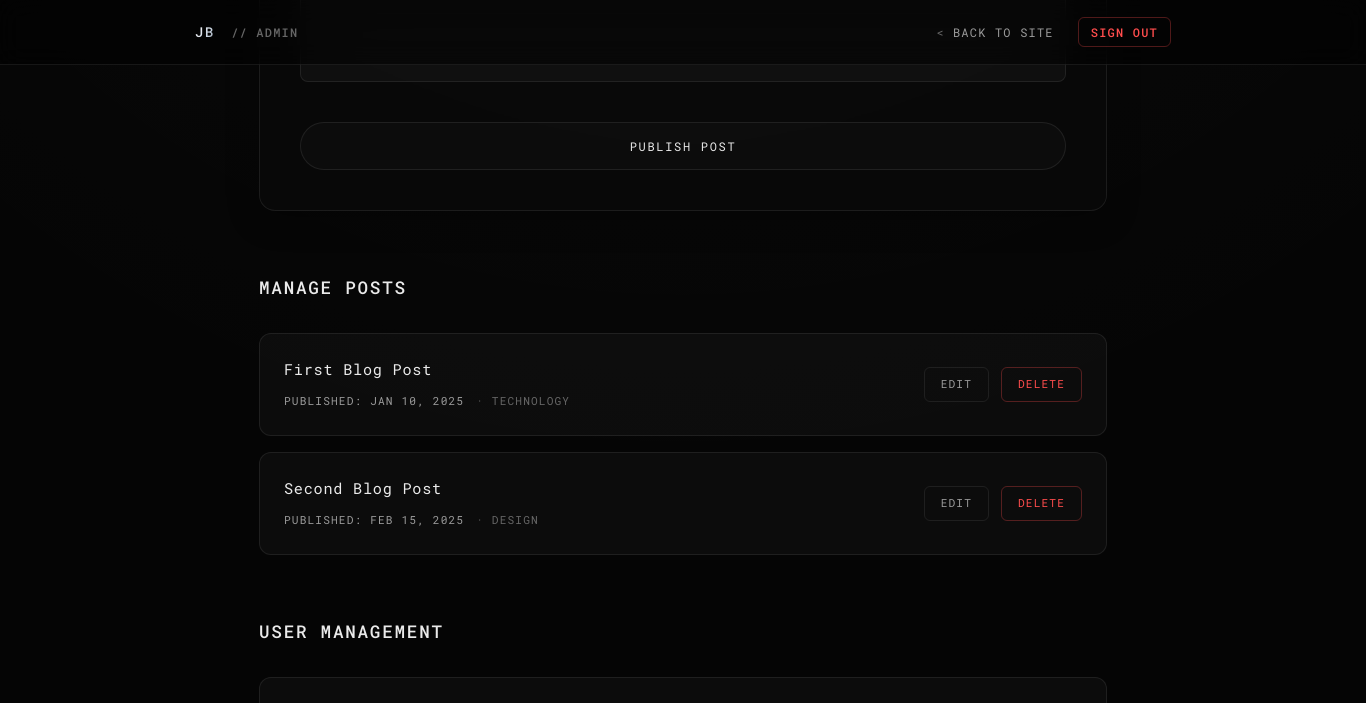
Scenario: AdminDashboard › clicking CANCEL resets to create mode
(page scrolled)
Click the button "EDIT" in the row of "Technology".
click(956, 384)  # box [924, 367, 989, 402]
(page scrolled)
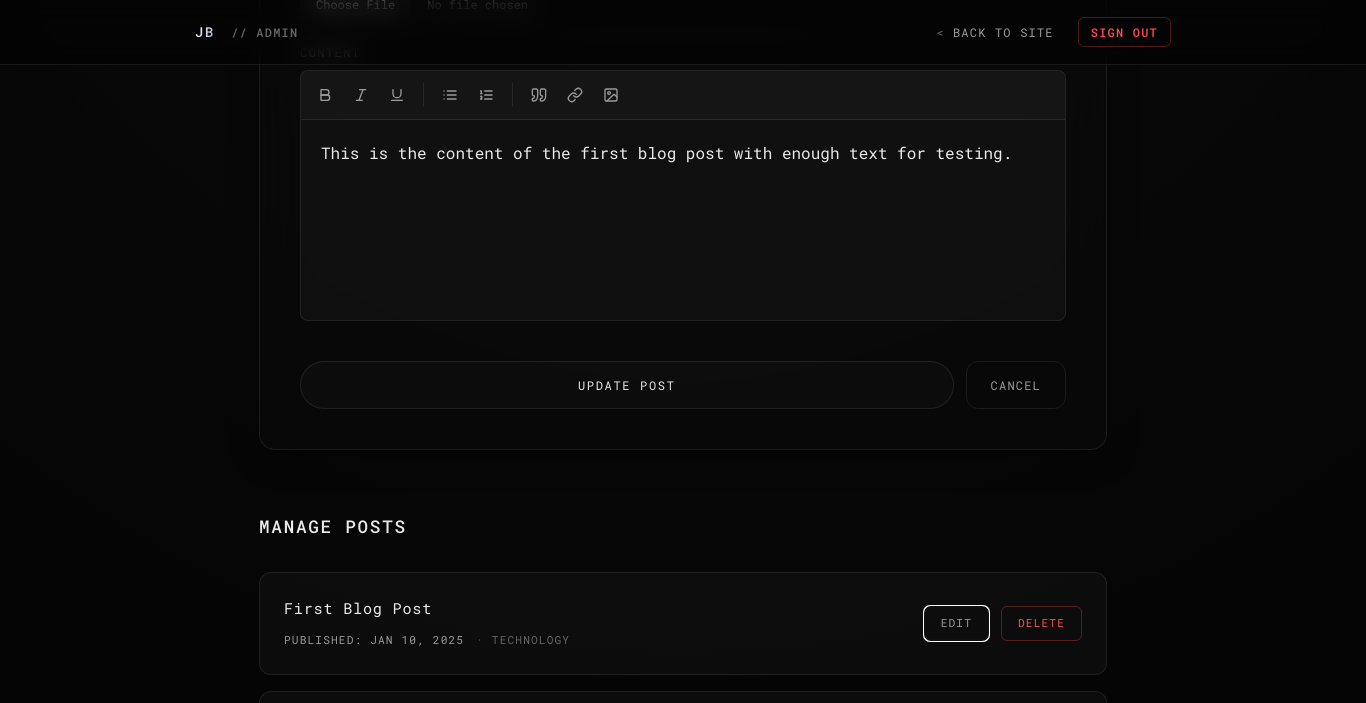
Click the button "CANCEL".
click(1016, 385)  # box [966, 361, 1066, 409]
(page scrolled)
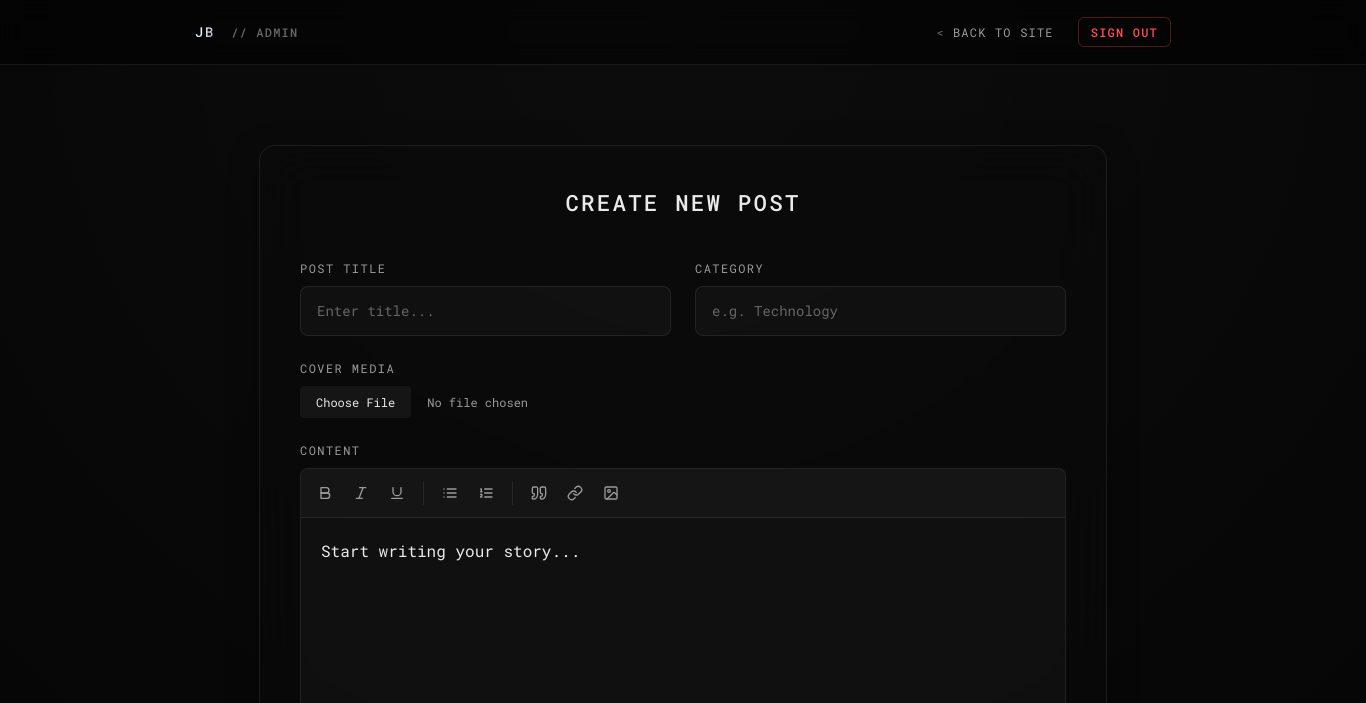
Expected: the heading "CREATE NEW POST" is shown, [565, 186, 801, 220]
